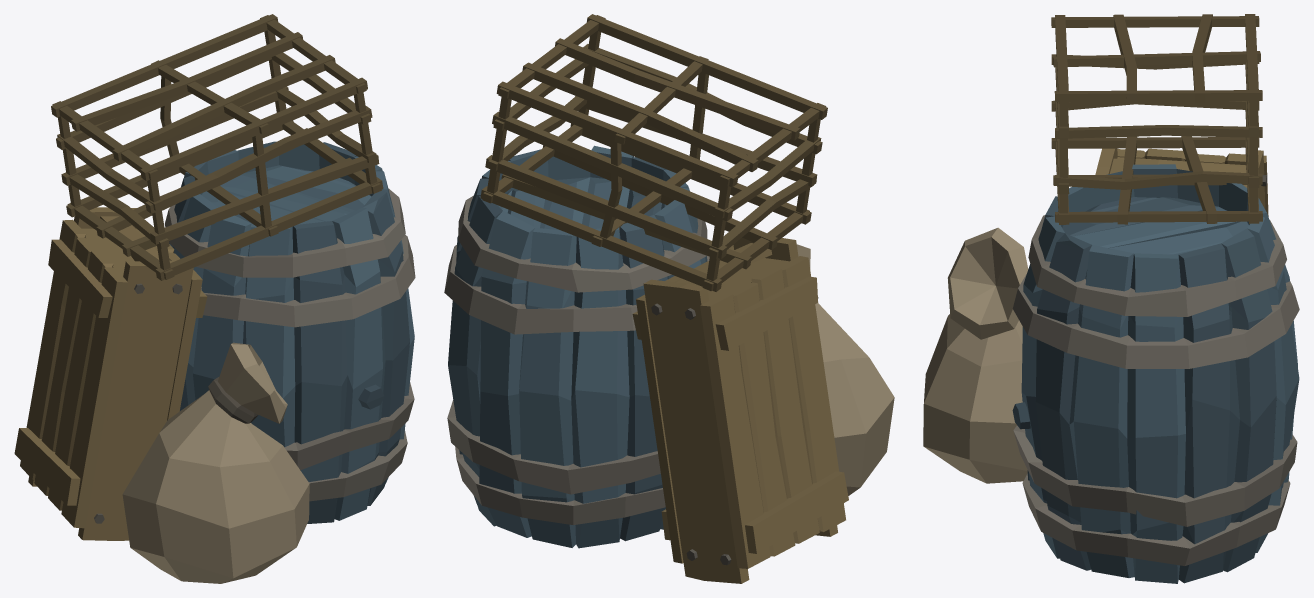
The model's file is Stack_1.fbx.
3 renders of one model, left to right at view 1: azimuth 30°, elevation 25°; view 2: azimuth 150°, elevation 25°; view 3: azimuth 270°, elevation 25°, orthographic. The views are drawn at different scales.
Parts seen in each view (by area): view 1: Stack_1; view 2: Stack_1; view 3: Stack_1.
Part boxes in pixels (box(x1,y1,x2,y2)): Stack_1: box(14, 14, 415, 583); Stack_1: box(444, 14, 894, 583); Stack_1: box(923, 14, 1299, 583).
Size of the model in its own units: 112 by 133 by 96.39.
